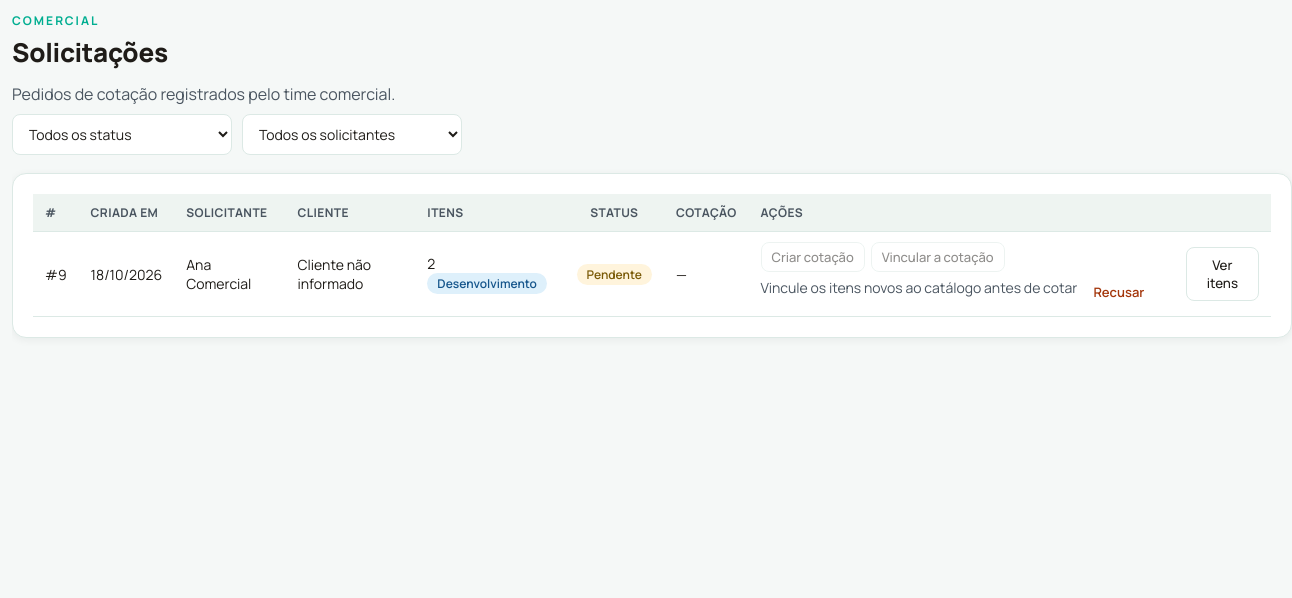
Test: ComexView - solicitacao de desenvolvimento › mostra os selos "Desenvolvimento" e "Item novo" e o cliente nao informado
Expected: the text "Ana Comercial" is shown, [174,232,286,316]
Expected: the text "Desenvolvimento" is shown, [427,273,547,294]
Click the button "Ver itens".
click(1222, 274)  # box [1186,247,1259,301]
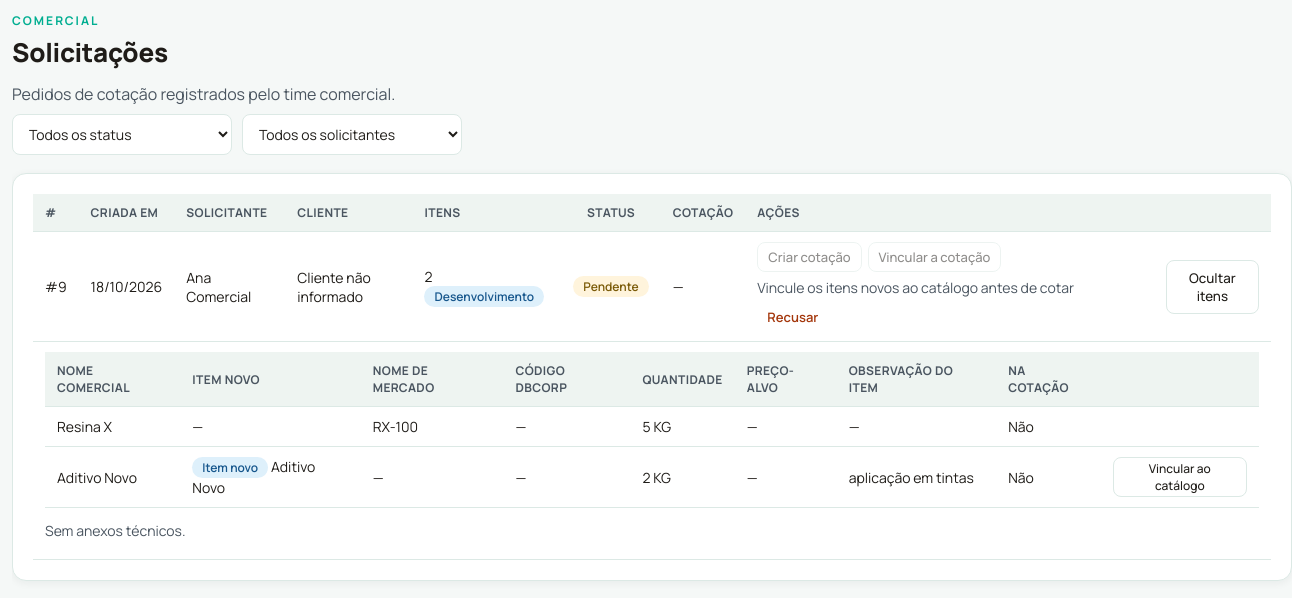
Now the text "Item novo" is shown, box [192,457,268,478]
Now the text "aplicação em tintas" is shown, box [837,446,996,508]
